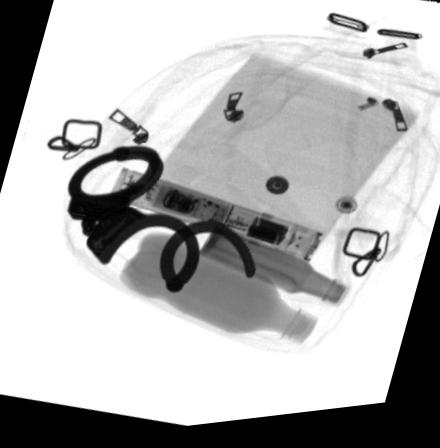Baton: (106, 168, 324, 270)
HandCuffs: (66, 146, 258, 298)
